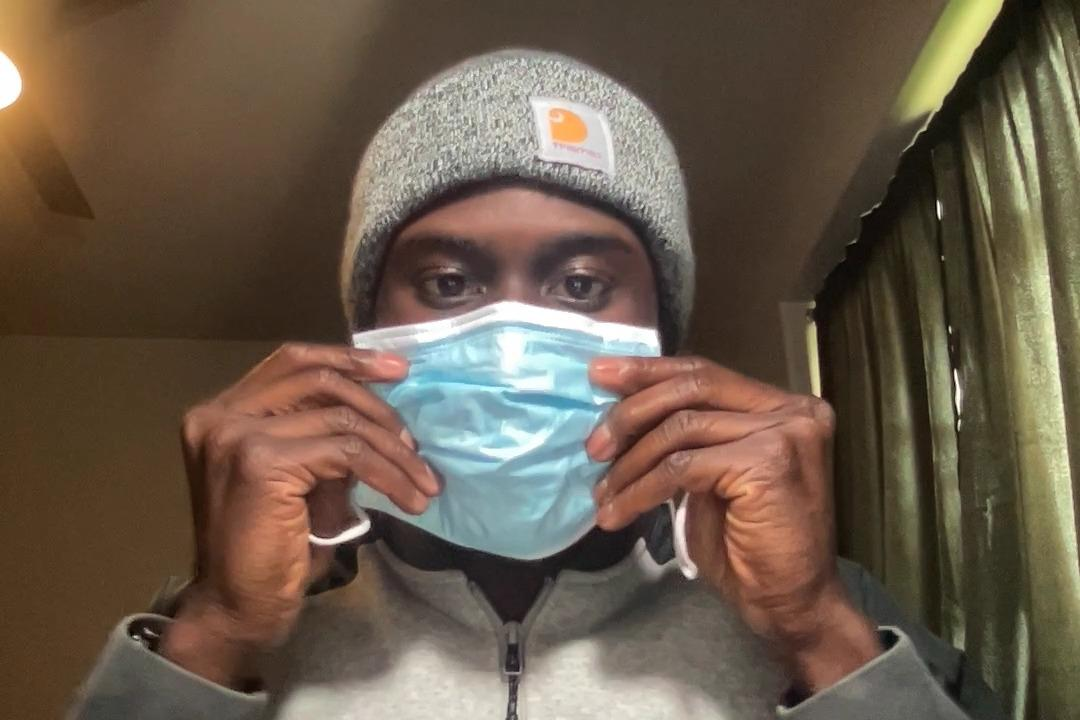face: (338, 113, 691, 560)
